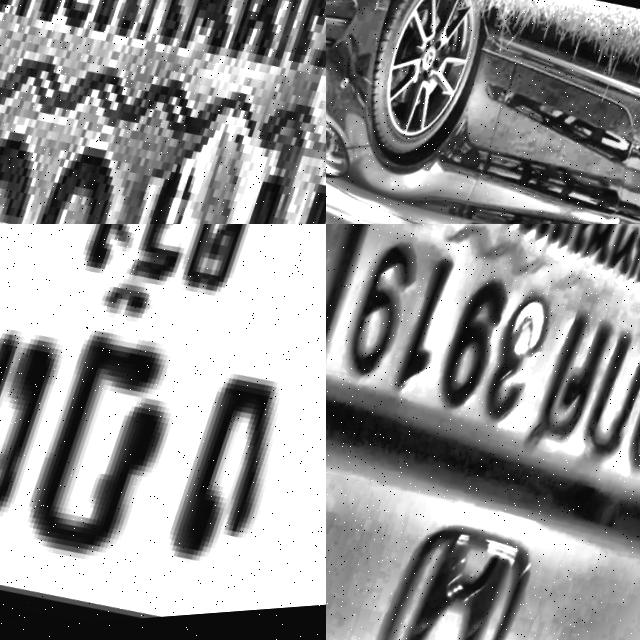license-plate: (0, 224, 326, 640), (326, 224, 640, 513), (0, 0, 326, 224)
